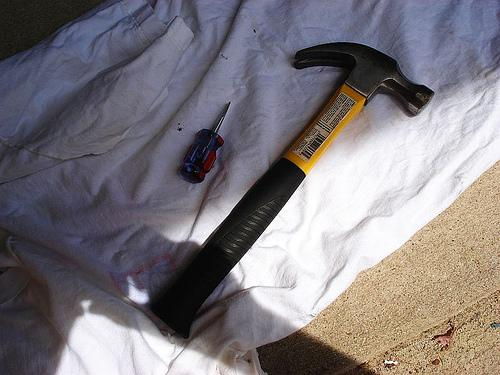hammer: (146, 38, 435, 340)
